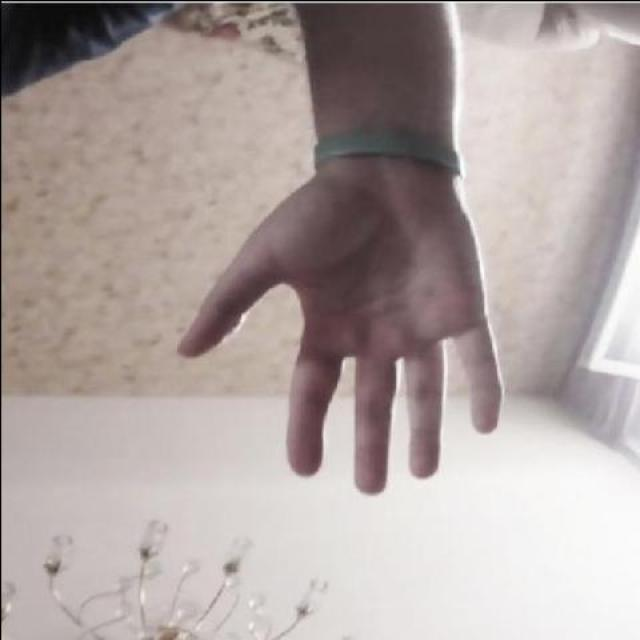Open Hand: (175, 109, 524, 503)
